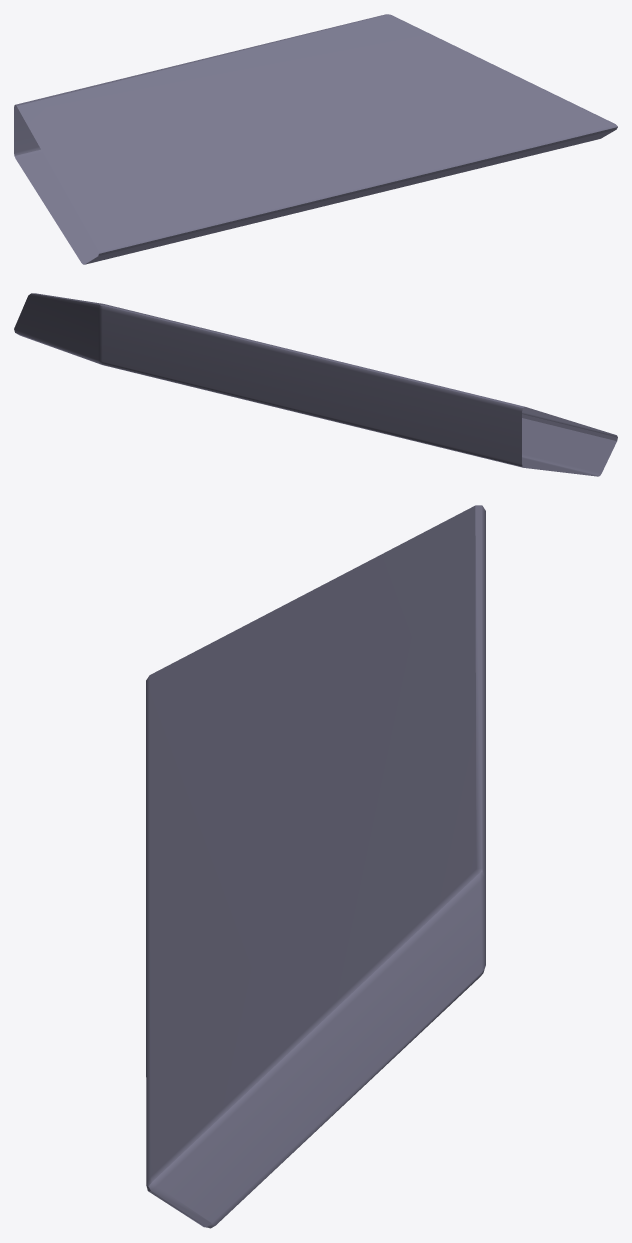
The model's file is SM_BalconyThingR.fbx.
3 renders of one model, top to bottom at view 1: azimuth 30°, elevation 25°; view 2: azimuth 150°, elevation 25°; view 3: azimuth 270°, elevation 25°, orthographic. The views are drawn at different scales.
Visible parts, largest first — view 1: pCube12; view 2: pCube12; view 3: pCube12.
Boxes of the visible parts, left/top/right/bottom form: pCube12: left=14, top=14, right=617, bottom=264; pCube12: left=14, top=293, right=617, bottom=476; pCube12: left=146, top=505, right=485, bottom=1228.
Bounding box in the file's own units: 348 × 70.34 × 98.29.
